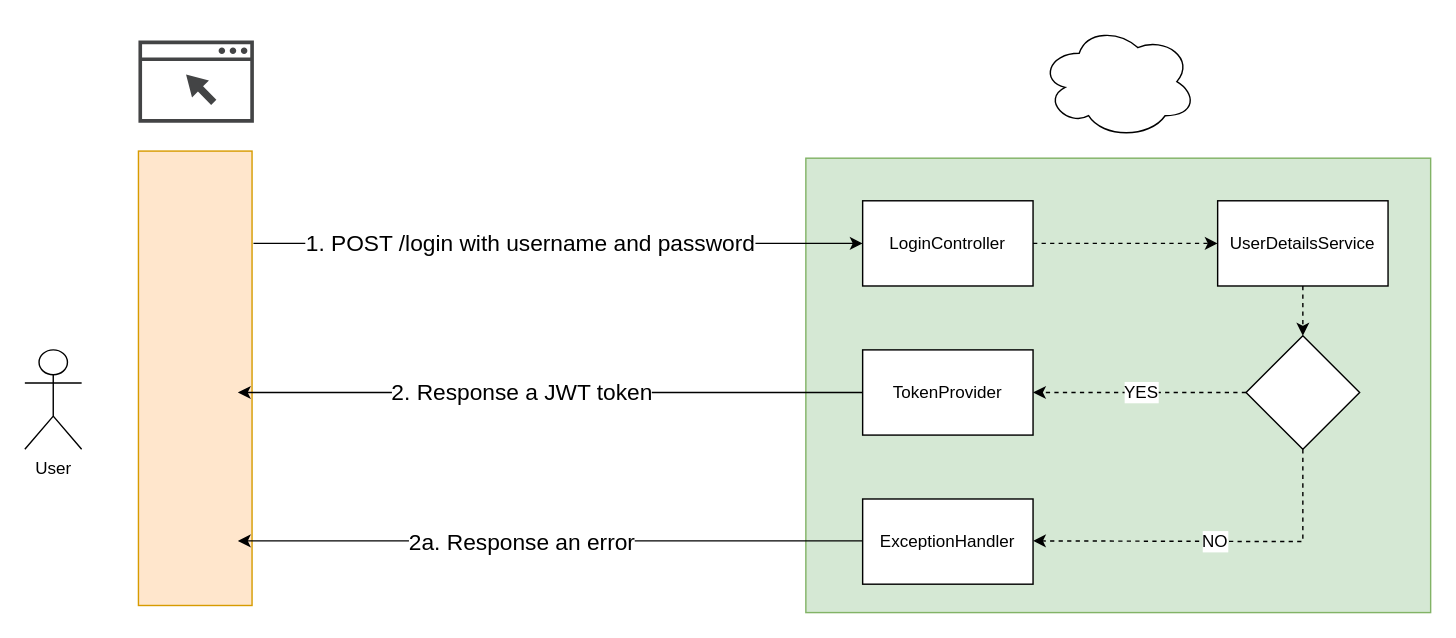
This 1456x638 diagram has some shape labels left out. Each missing label, with the centre of its shape:
"Is valid account" belongs at point (1302, 391).
"Server" belongs at point (1117, 80).
